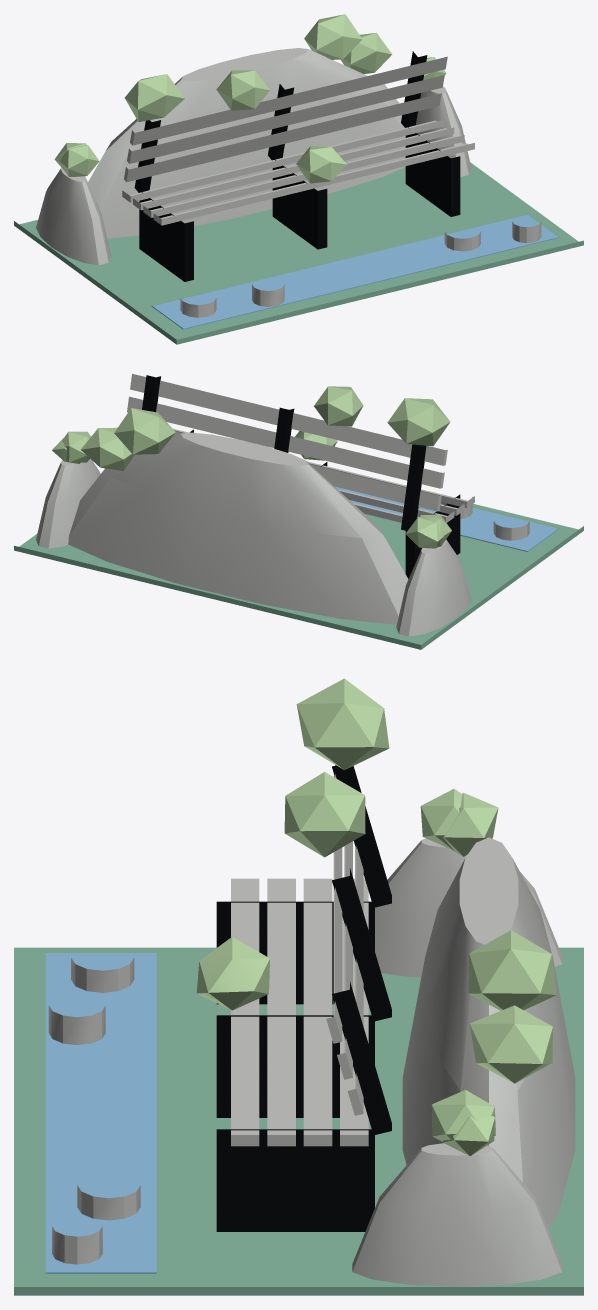
3 renders of one model, top to bottom at view 1: azimuth 30°, elevation 25°; view 2: azimuth 150°, elevation 25°; view 3: azimuth 270°, elevation 25°, orthographic. The views are drawn at different scales.
Parts seen in each view (by area): view 1: Safety_Pad, Terrain, Bench_Back, River_Ribbon, Bench_Seat, Bench_Frame, Foliage, River_Stones; view 2: Terrain, Bench_Back, Safety_Pad, Foliage, Bench_Frame, River_Ribbon, Bench_Seat, River_Stones; view 3: Terrain, Safety_Pad, Foliage, River_Ribbon, Bench_Frame, Bench_Seat, River_Stones, Bench_Back.
Part boxes in pixels (left/top/right/bottom): Safety_Pad: left=14, top=162, right=583, bottom=344; Terrain: left=36, top=48, right=471, bottom=265; Bench_Back: left=124, top=56, right=447, bottom=182; River_Ribbon: left=151, top=215, right=559, bottom=329; Bench_Seat: left=122, top=120, right=474, bottom=225; Bench_Frame: left=134, top=51, right=460, bottom=281; Foliage: left=54, top=14, right=446, bottom=183; River_Stones: left=180, top=221, right=541, bottom=317; Terrain: left=36, top=432, right=471, bottom=636; Bench_Back: left=127, top=373, right=447, bottom=511; Safety_Pad: left=14, top=503, right=583, bottom=649; Foliage: left=52, top=386, right=451, bottom=548; Bench_Frame: left=142, top=375, right=460, bottom=578; River_Ribbon: left=335, top=486, right=559, bottom=551; Bench_Seat: left=173, top=428, right=474, bottom=522; River_Stones: left=212, top=434, right=529, bottom=540; Terrain: left=352, top=837, right=575, bottom=1286; Safety_Pad: left=14, top=947, right=583, bottom=1295; Foliage: left=196, top=678, right=556, bottom=1155; River_Ribbon: left=45, top=953, right=156, bottom=1273; Bench_Frame: left=216, top=765, right=391, bottom=1231; Bench_Seat: left=231, top=878, right=368, bottom=1146; River_Stones: left=48, top=958, right=140, bottom=1264; Bench_Back: left=326, top=765, right=363, bottom=1115.
Size of what is drawn, in the model's own units: 2.6 by 1.1 by 1.8.
Materials: 5 (1 with a texture image).
